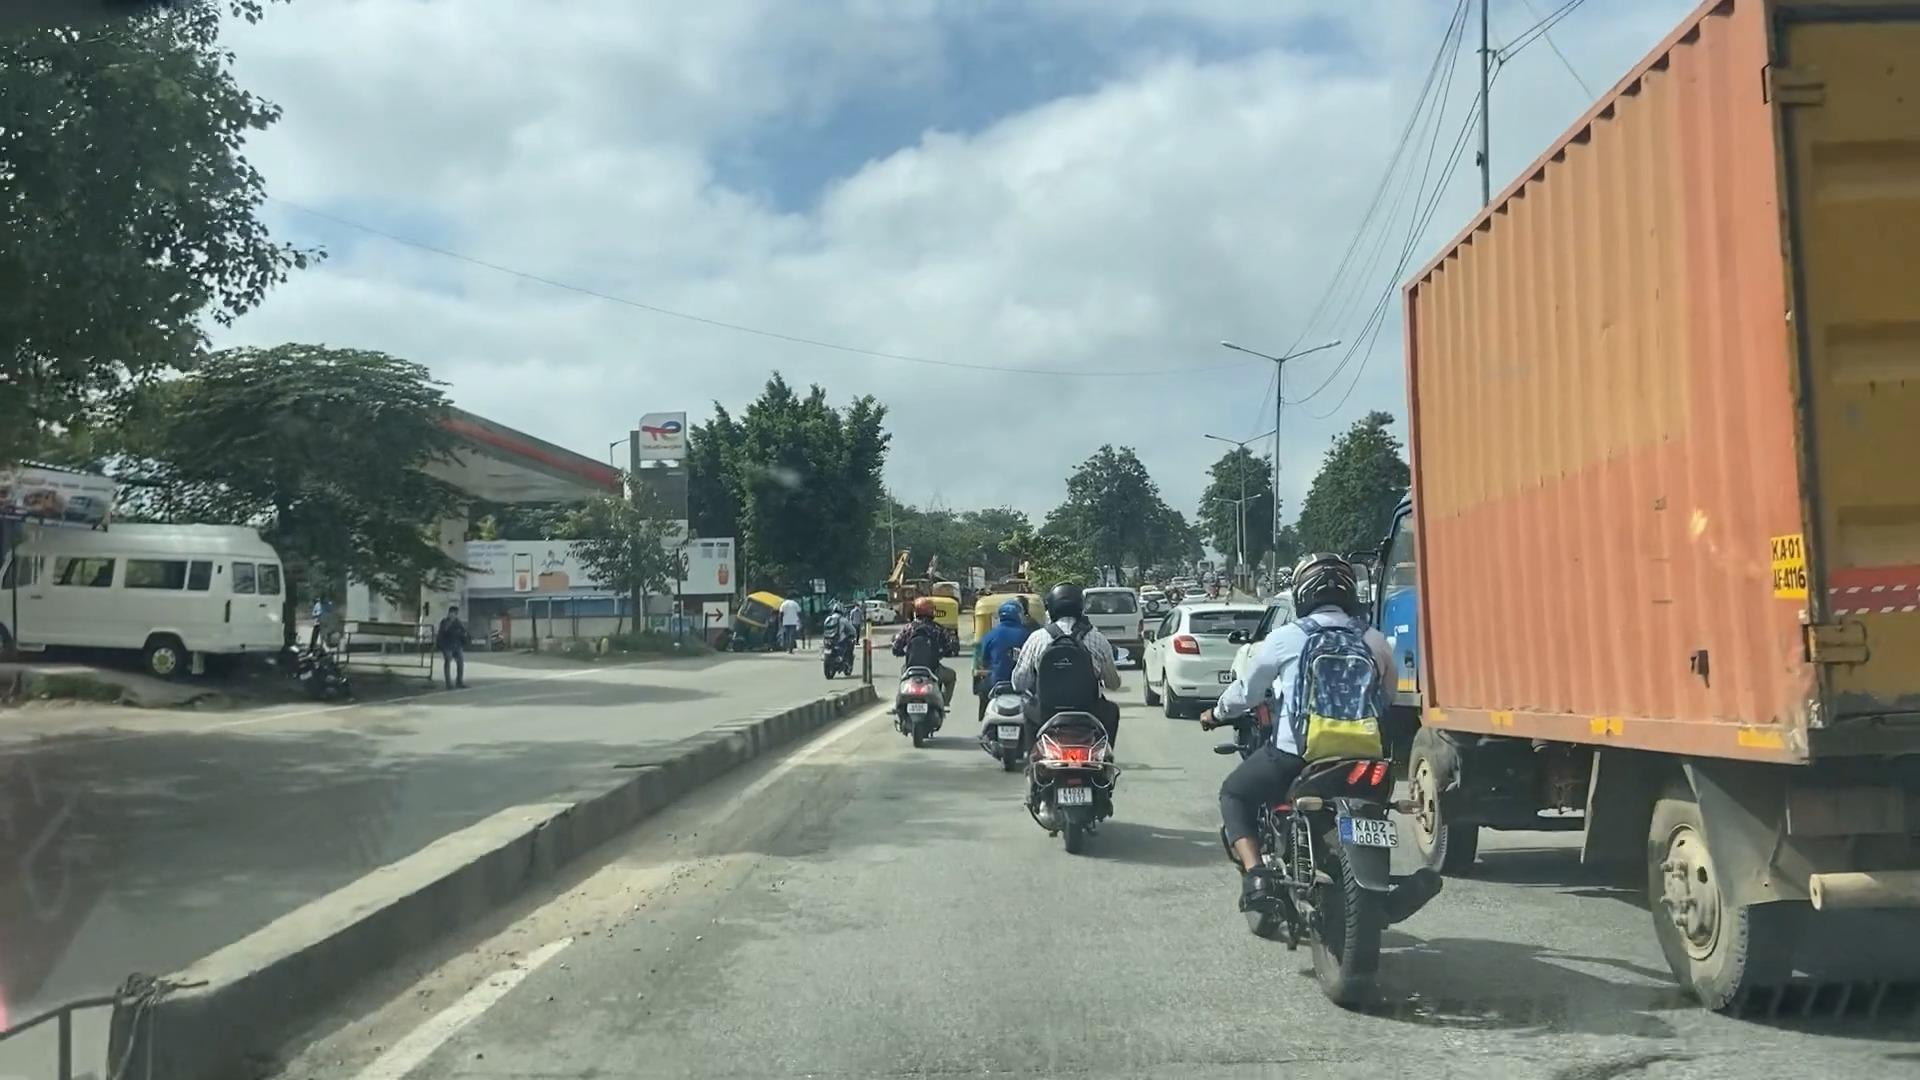LMV: (1247, 570, 1399, 976), (1033, 588, 1120, 832), (902, 597, 953, 757), (986, 600, 1035, 766)
UnsurfacedRoad: (570, 856, 703, 949)
